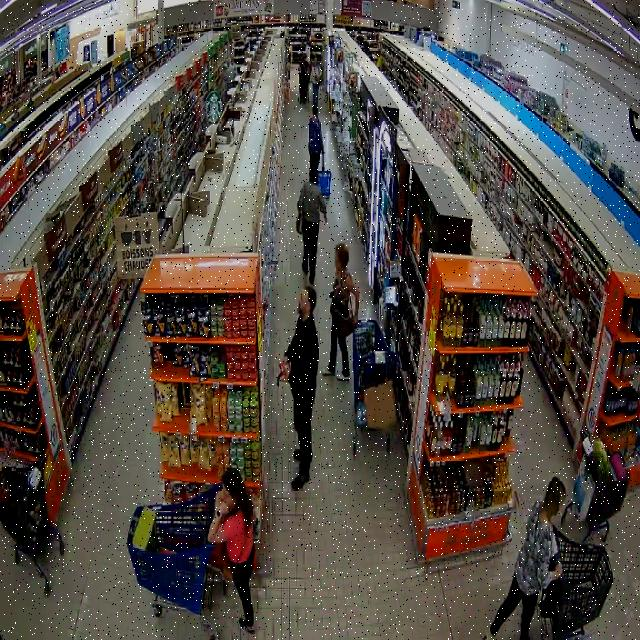article: (278, 361, 289, 375)
bags: (221, 534, 248, 583), (332, 311, 358, 335)
hands: (551, 564, 562, 581), (218, 502, 229, 517), (215, 491, 222, 510), (281, 370, 290, 383), (280, 356, 288, 365), (324, 214, 328, 224), (354, 315, 359, 323)
person: (483, 477, 565, 639), (280, 284, 318, 489), (208, 467, 254, 633), (324, 243, 358, 380), (296, 170, 326, 284), (308, 106, 324, 171)
